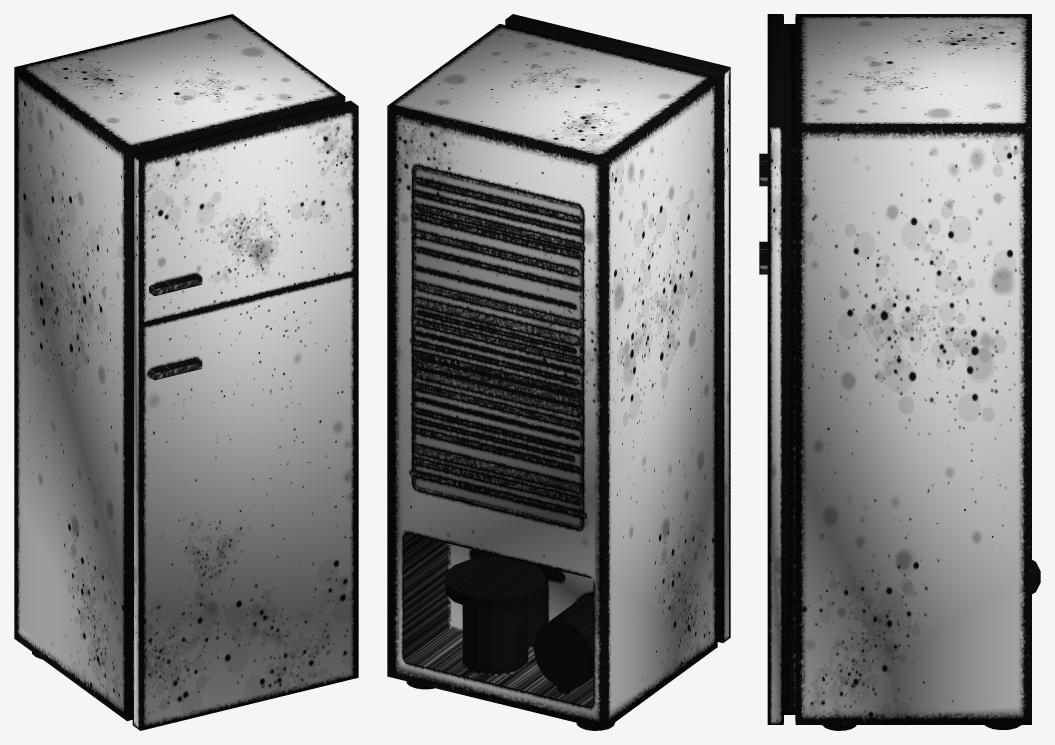
File: fridge.obj
3 views of the same model, side by side, from view 1: azimuth 30°, elevation 25°; view 2: azimuth 150°, elevation 25°; view 3: azimuth 270°, elevation 25° (orthographic). The views are drawn at different scales.
Parts seen in each view (by area): view 1: fridge; view 2: fridge; view 3: fridge.
Part boxes in pixels (x1,y1,x2,y2): fridge: (14,14,358,730); fridge: (387,14,730,730); fridge: (759,14,1040,730).
Bounding box in the file's own units: 2 × 5.08 × 2.13.
